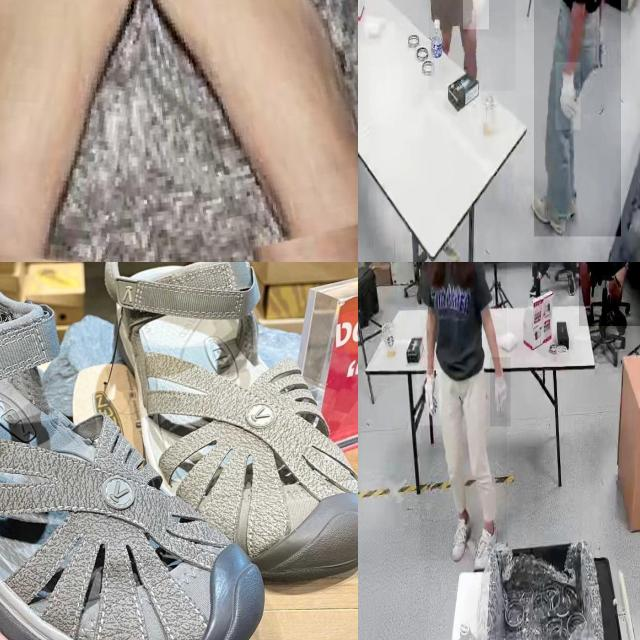Barefoots: (159, 0, 358, 231), (0, 0, 129, 262)
Sandals: (0, 262, 279, 640), (80, 262, 358, 599)
hand_glove: (555, 62, 581, 131), (416, 368, 442, 426), (490, 357, 511, 427), (462, 0, 489, 30)
person: (420, 262, 507, 561), (534, 0, 621, 237), (428, 0, 515, 91), (578, 262, 640, 327)
shoes: (531, 195, 569, 239), (474, 514, 498, 575), (451, 506, 471, 562)
